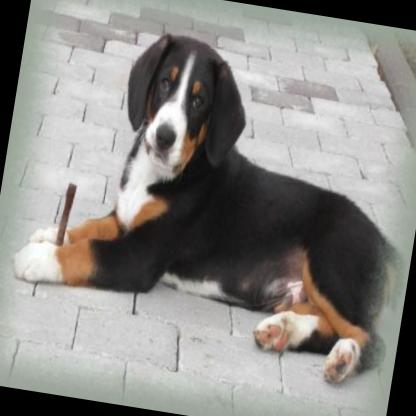EntleBucher: (0, 9, 416, 395)
